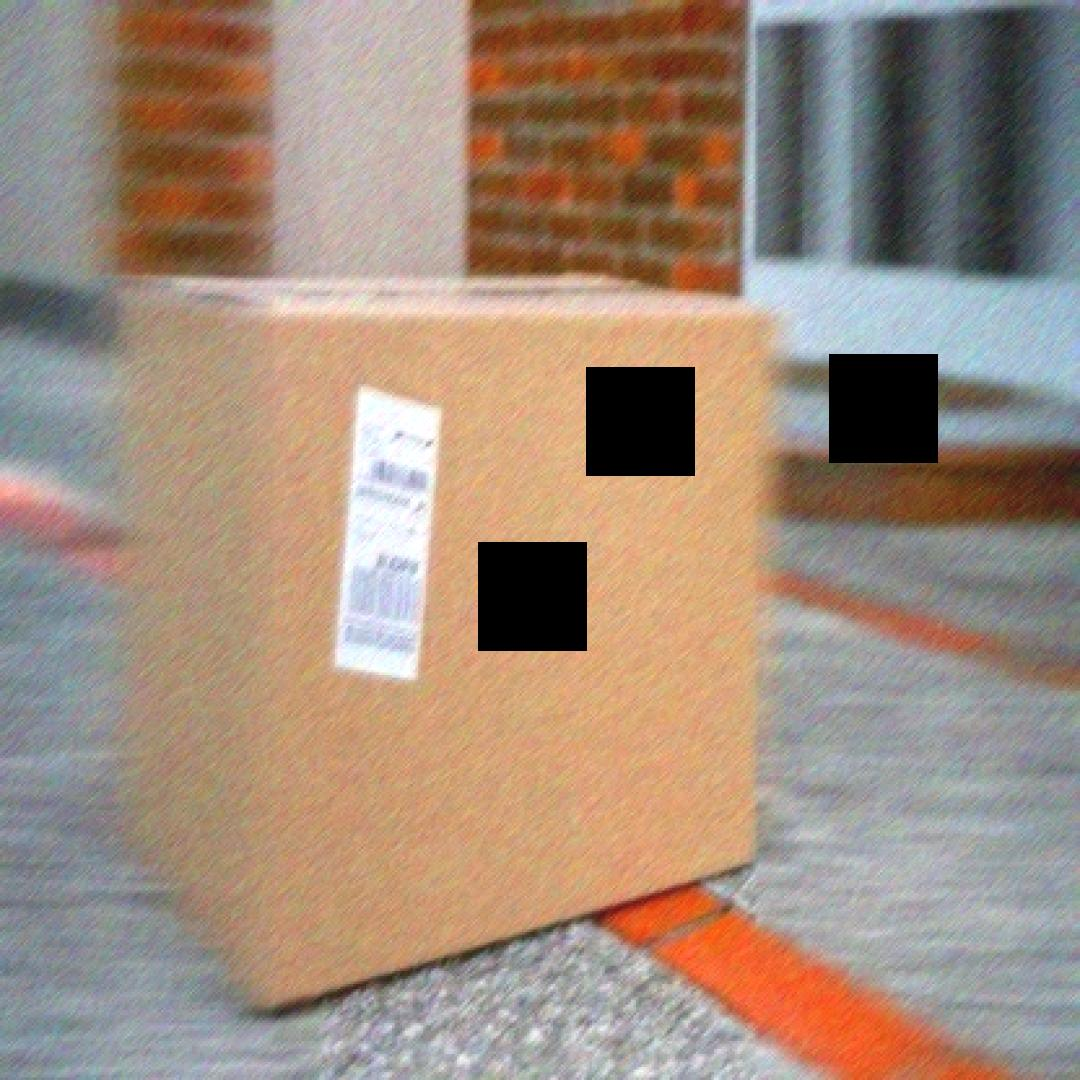package: (114, 262, 787, 1026)
